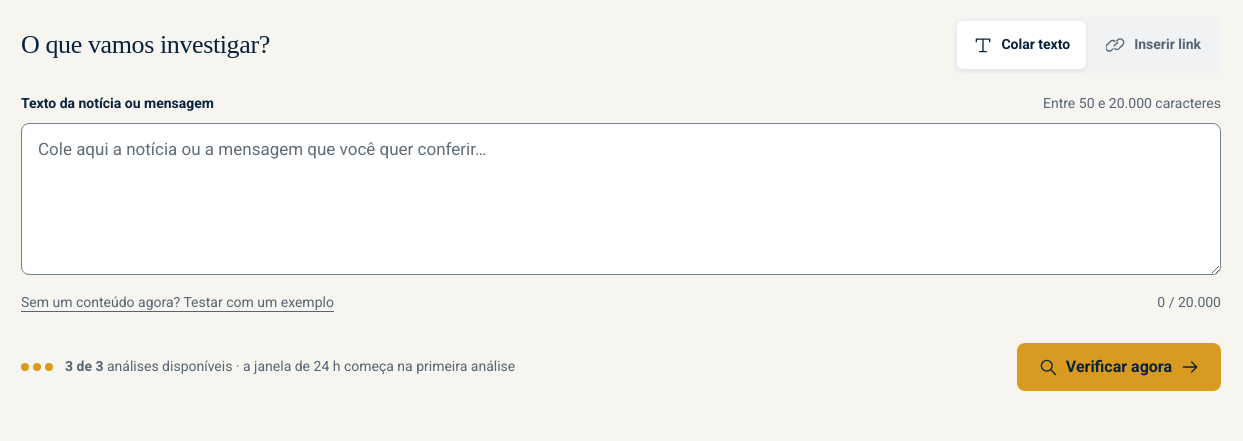
Test: validação no navegador (RF01, RF27) › endereço "exemplo.com/noticia": mostra "Esse endereço não parece válido." e leva o foco ao campo
Click the tab "Inserir link" at x=1154, y=45, box [1090,21,1217,69]
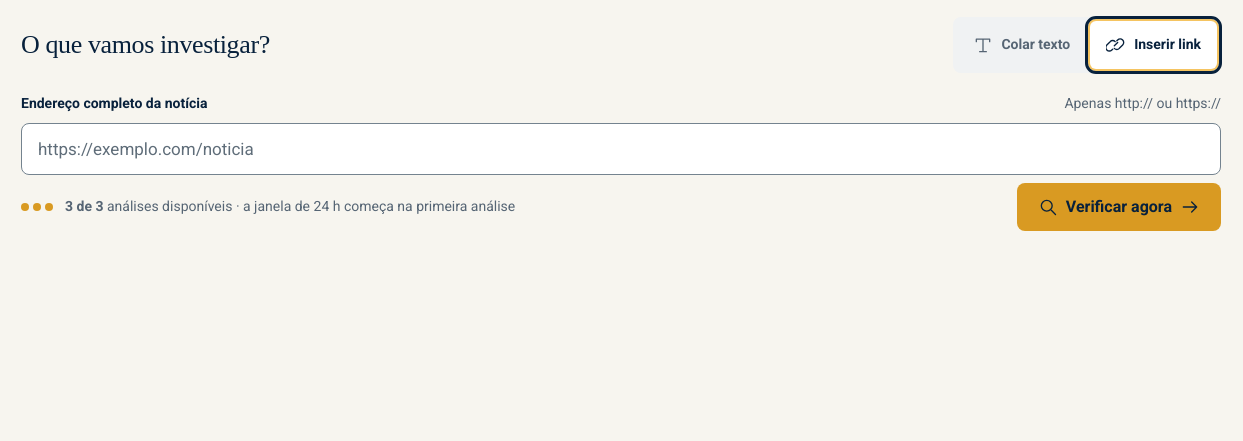
Type "exemplo.com/noticia" into the field labelled "Endereço completo da notícia" at x=621, y=149, box [21,123,1221,175]
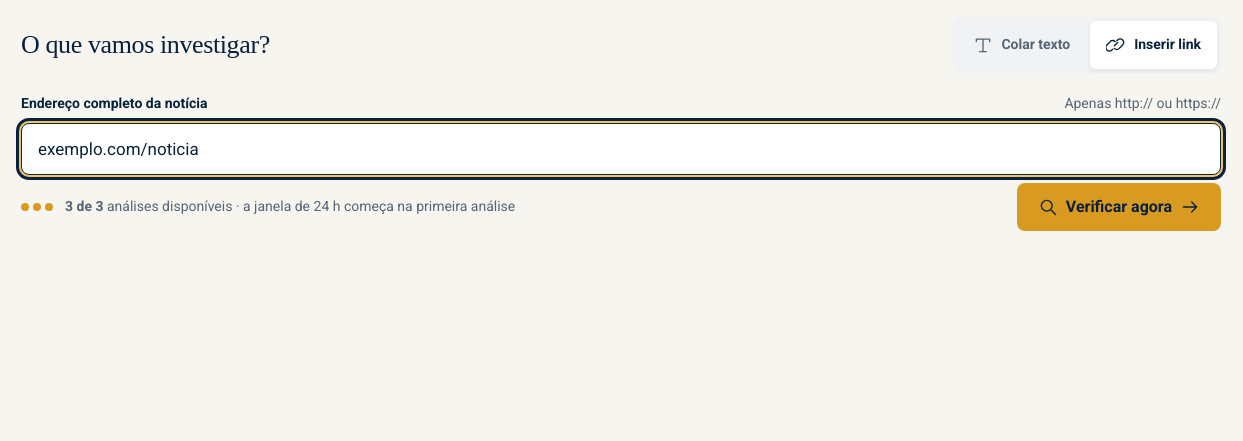
Click the button "Verificar agora" at x=1119, y=207, box [1017,183,1221,231]
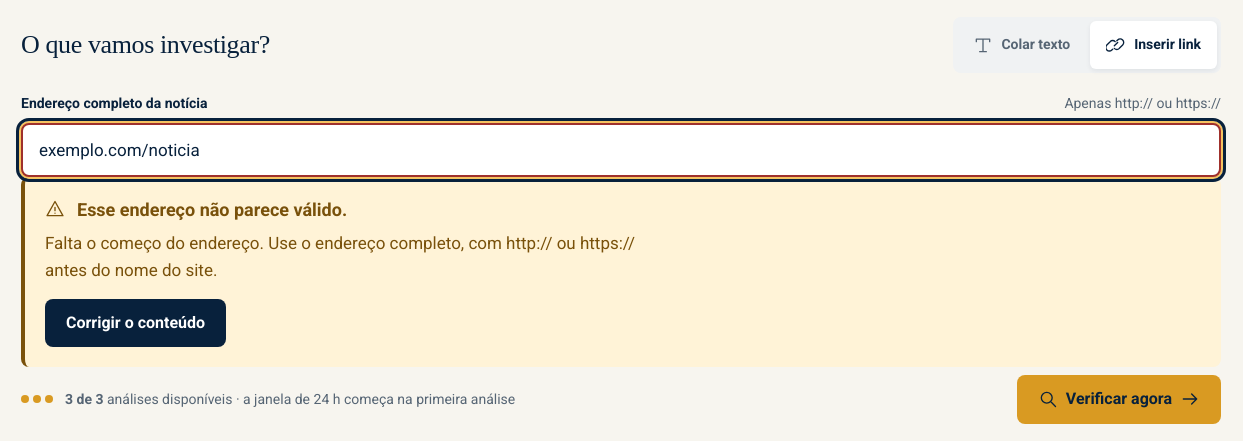
Check: the message is shown, box [45,199,635,280]
Check: the message shows "Esse endereço não parece válido.", box [77,199,347,220]
